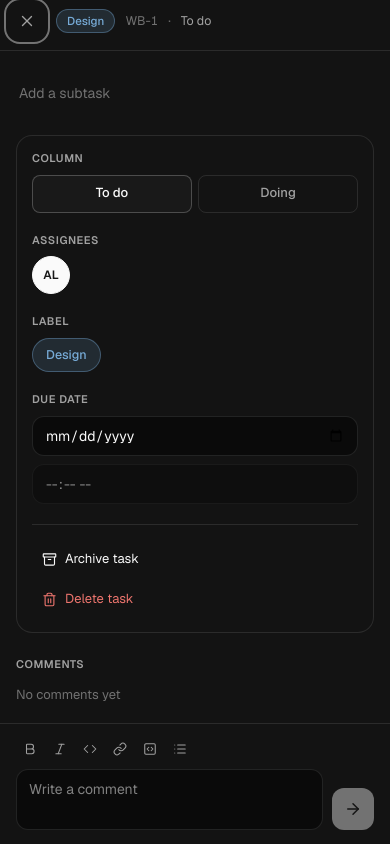
Test: CardDetailDialog › replaces archive and delete with a confirmation block
The width and height of the screenshot is (390, 844).
(page scrolled)
Click the button "Delete task" at (99, 599), box [32,582,358,616]
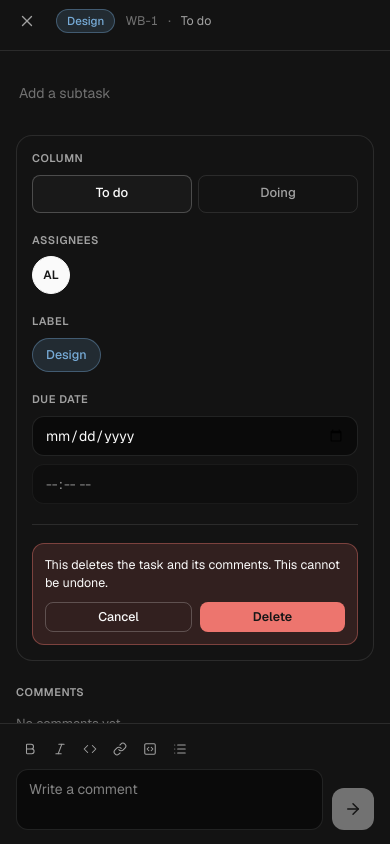
Result: the text "This deletes the task and its comments. This cannot be undone." is shown at [45,556,345,593]
Result: the button "Archive task" is gone
